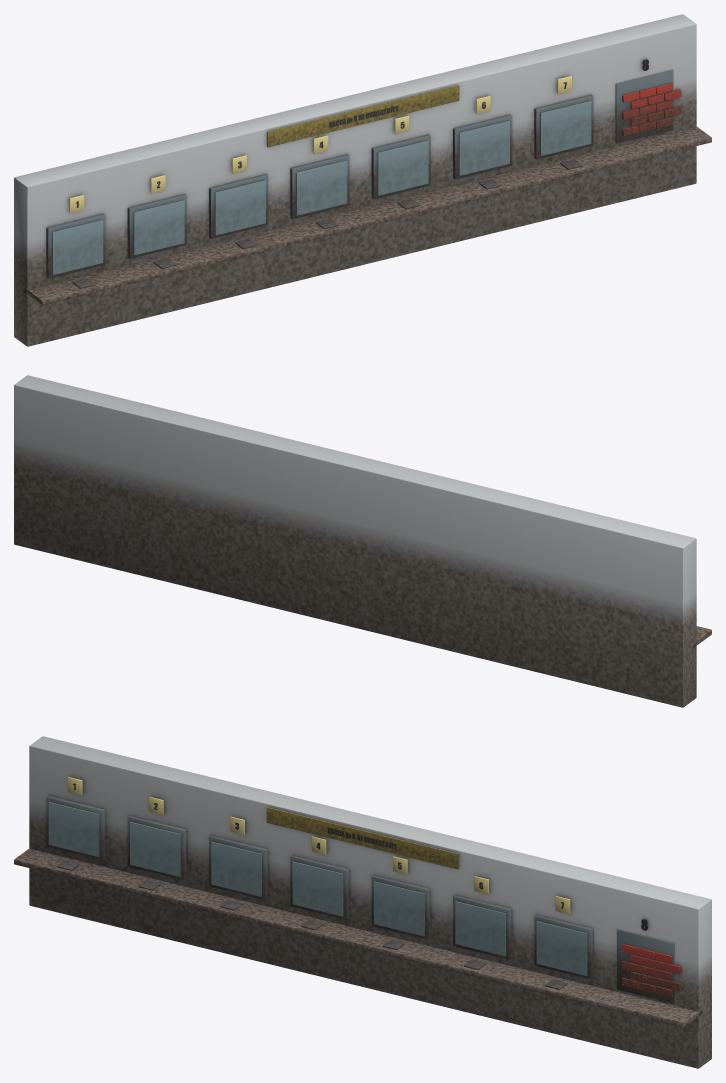
The model's file is g67_pz_cash_shield.glb.
3 renders of one model, top to bottom at view 1: azimuth 30°, elevation 25°; view 2: azimuth 150°, elevation 25°; view 3: azimuth 330°, elevation 25°, orthographic.
Visible parts, largest first — view 1: g67_pz_cash_shield, plate, glass, glass.006, glass.003, glass.002, glass.001, glass.004, glass.005; view 2: g67_pz_cash_shield; view 3: g67_pz_cash_shield, plate, glass, glass.006, glass.003, glass.004, glass.002, glass.005, glass.001.
Part boxes in pixels (x1=…): g67_pz_cash_shield: x1=14, y1=14, x2=711, y2=346; plate: x1=267, y1=85, x2=459, y2=147; glass: x1=52, y1=220, x2=103, y2=274; glass.006: x1=540, y1=101, x2=591, y2=155; glass.003: x1=296, y1=160, x2=347, y2=215; glass.002: x1=215, y1=180, x2=265, y2=235; glass.001: x1=134, y1=200, x2=184, y2=255; glass.004: x1=378, y1=140, x2=428, y2=195; glass.005: x1=459, y1=121, x2=509, y2=175; g67_pz_cash_shield: x1=14, y1=375, x2=711, y2=707; g67_pz_cash_shield: x1=14, y1=736, x2=711, y2=1068; plate: x1=266, y1=807, x2=458, y2=869; glass: x1=48, y1=802, x2=99, y2=856; glass.006: x1=536, y1=921, x2=587, y2=975; glass.003: x1=292, y1=861, x2=343, y2=916; glass.004: x1=374, y1=881, x2=424, y2=936; glass.002: x1=211, y1=841, x2=261, y2=896; glass.005: x1=455, y1=901, x2=505, y2=956; glass.001: x1=130, y1=822, x2=180, y2=876.
Bounding box in the file's own units: 14 × 3.2 × 1.05.
Materials: 1 (1 with a texture image).
